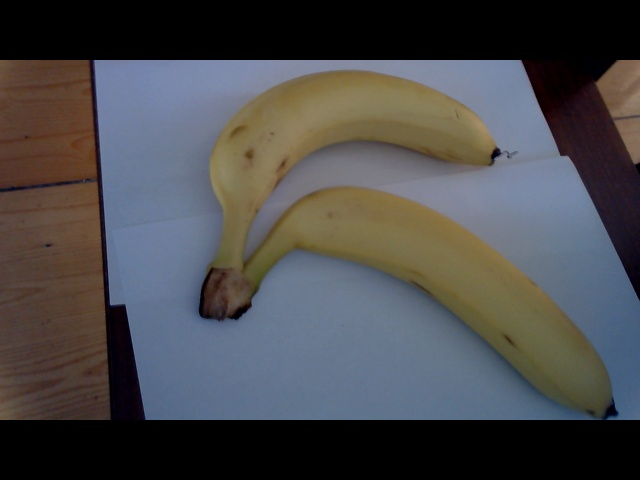banana: (227, 201, 628, 414), (168, 65, 537, 205)
